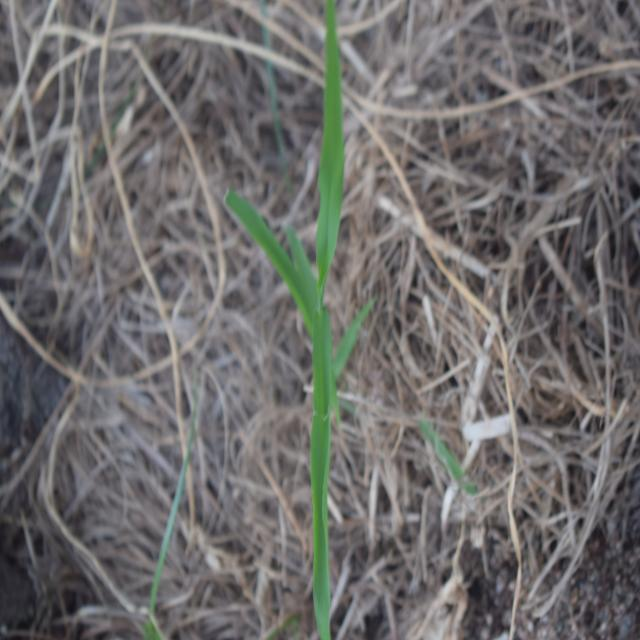crabgrass: (232, 32, 385, 569)
